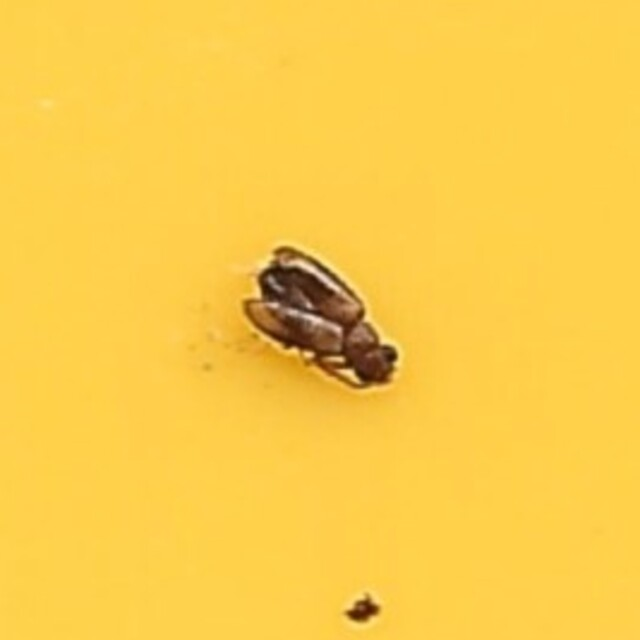Coleoptera: (240, 246, 400, 394)
